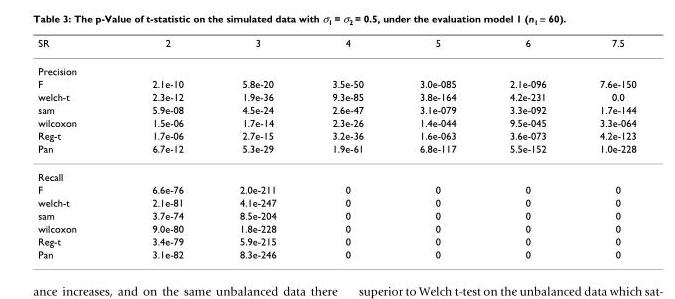table: (37, 36, 635, 259)
table column: (113, 36, 211, 259), (211, 36, 303, 259), (390, 36, 482, 259), (482, 36, 572, 259), (303, 36, 390, 259), (37, 36, 113, 259), (572, 36, 635, 259)
table column header: (37, 36, 635, 56)
table projected row header: (37, 56, 635, 77), (37, 162, 635, 182)
table row: (37, 56, 635, 77), (37, 141, 635, 162), (37, 36, 635, 56), (37, 162, 635, 182), (37, 77, 635, 90), (37, 102, 635, 115), (37, 115, 635, 128), (37, 128, 635, 141), (37, 182, 635, 195), (37, 195, 635, 208), (37, 208, 635, 221), (37, 221, 635, 234), (37, 234, 635, 247), (37, 90, 635, 102), (37, 247, 635, 259)
